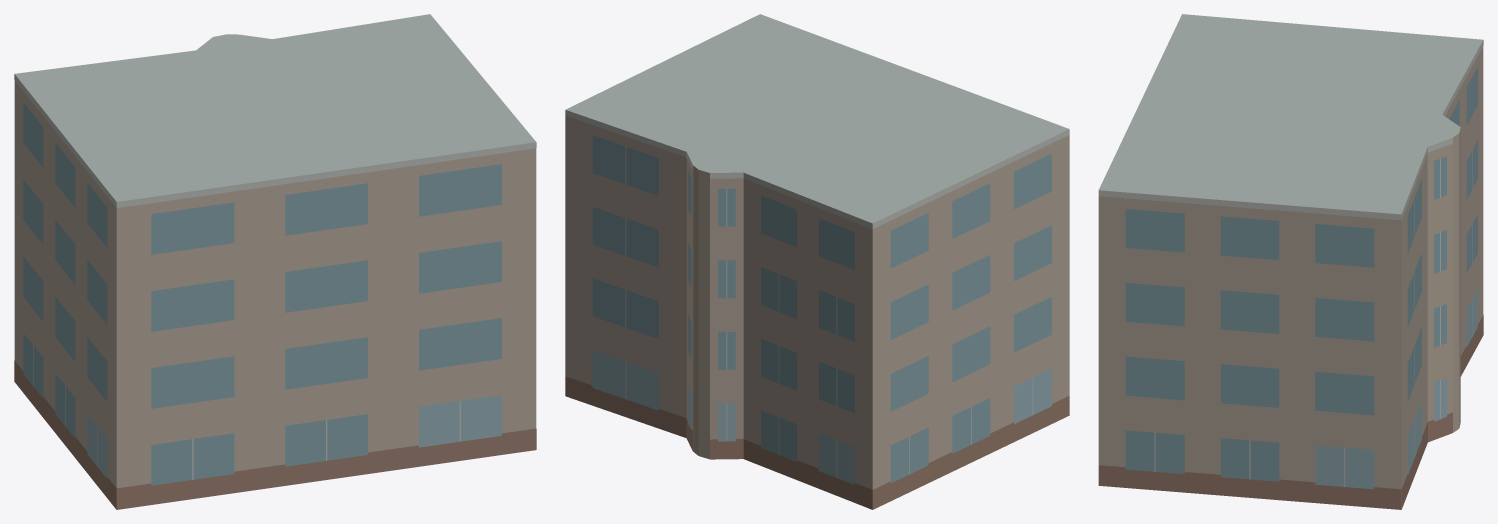
File: survey-upis-32705762.glb
3 views of the same model, side by side, from view 1: azimuth 30°, elevation 25°; view 2: azimuth 150°, elevation 25°; view 3: azimuth 270°, elevation 25° (orthographic). The views are drawn at different scales.
Parts seen in each view (by area): view 1: survey-upis-32705762.tmp; view 2: survey-upis-32705762.tmp; view 3: survey-upis-32705762.tmp.
Boxes of the visible parts, left/top/right/bottom form: survey-upis-32705762.tmp: left=14, top=14, right=536, bottom=509; survey-upis-32705762.tmp: left=565, top=14, right=1069, bottom=509; survey-upis-32705762.tmp: left=1098, top=14, right=1483, bottom=509.
Size of the model in its own units: 17.76 by 12.2 by 14.42.
